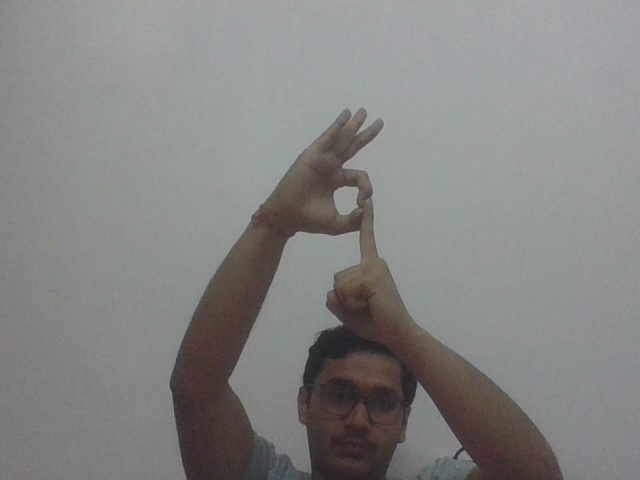P: (298, 106, 394, 289)
